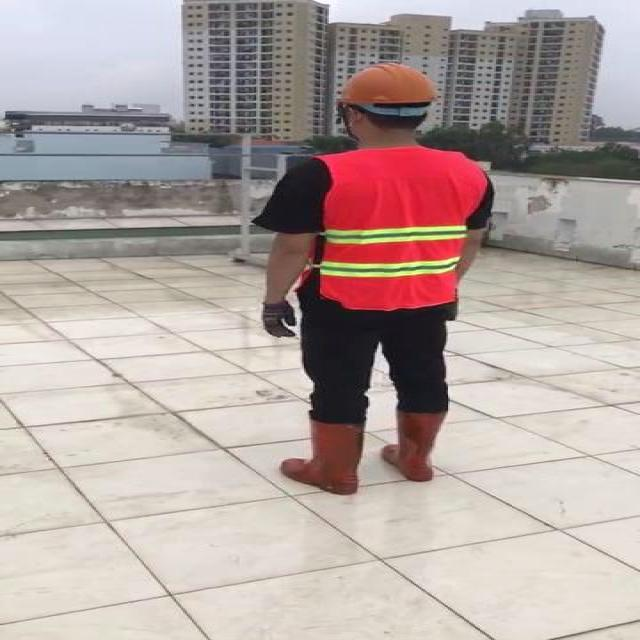boots: (279, 414, 370, 498), (383, 413, 449, 482)
hand_glove: (258, 301, 302, 339)
head_helmet: (336, 59, 448, 108)
person: (255, 59, 501, 503)
vest: (311, 147, 487, 311)
